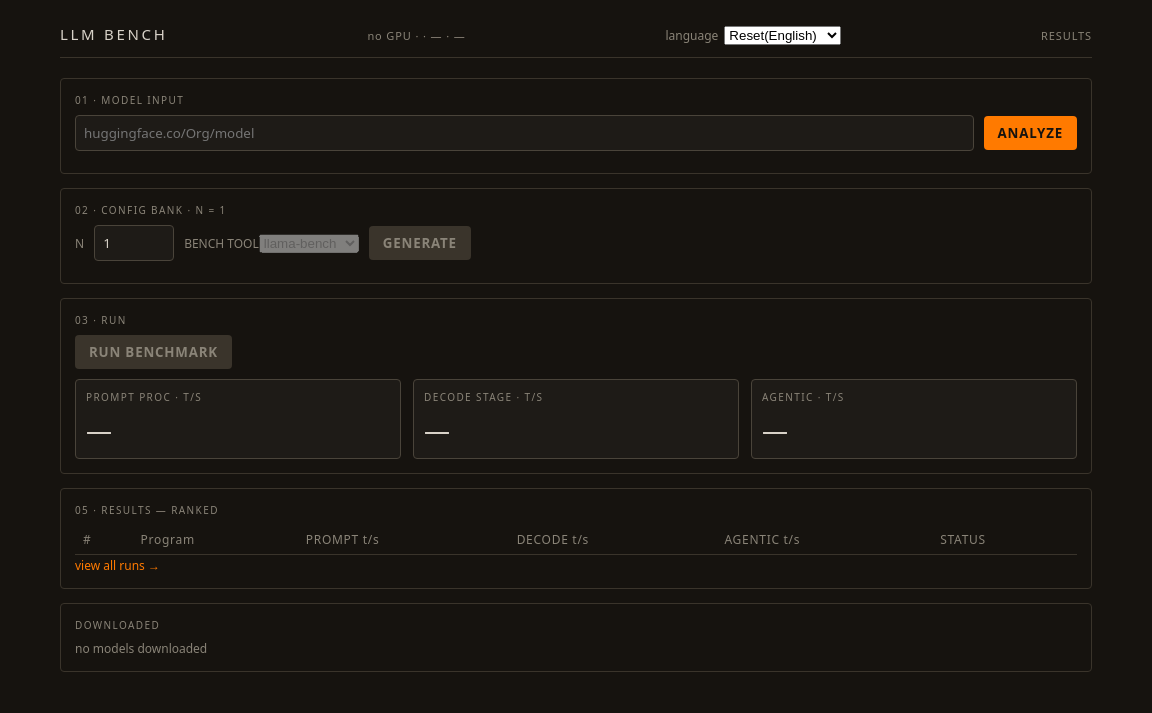
only the README-detected server appears in the select and download row
The width and height of the screenshot is (1152, 713).
Type "org/model" into the field with placeholder "huggingface.co/Org/model".
click(524, 133); type("org/model")  # box [75,115,974,151]
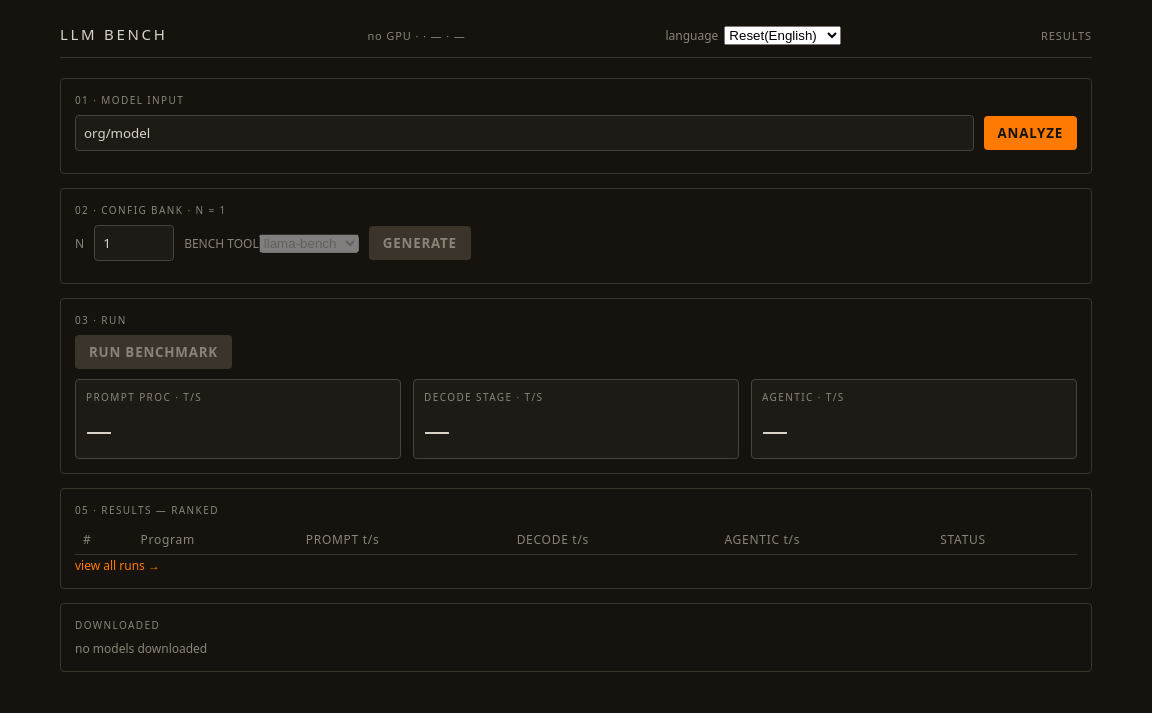
Click the button "ANALYZE".
click(1030, 133)  # box [984,116,1077,150]
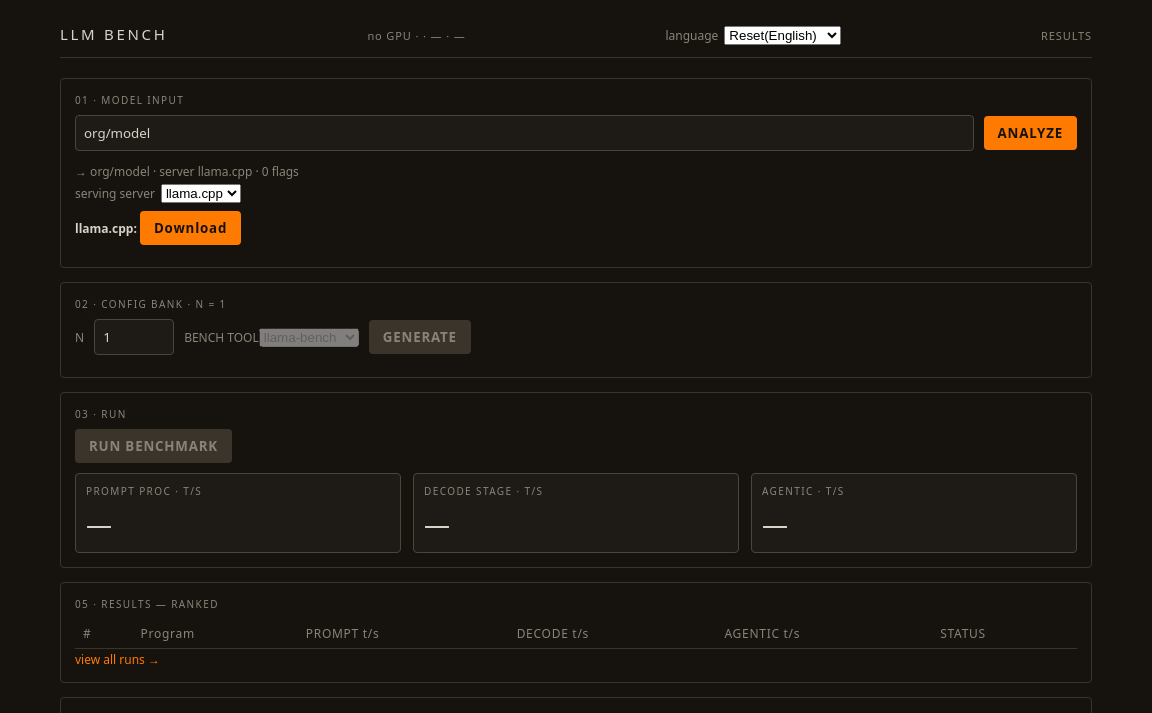
Check: the text "→ org/model · server llama.cpp · 0 flags" is shown, box [75,163,299,180]
Check: the dropdown labelled "serving server" shows "llama.cpp", box [161,184,241,203]
Check: the text "llama.cpp:" is shown, box [75,220,137,237]
